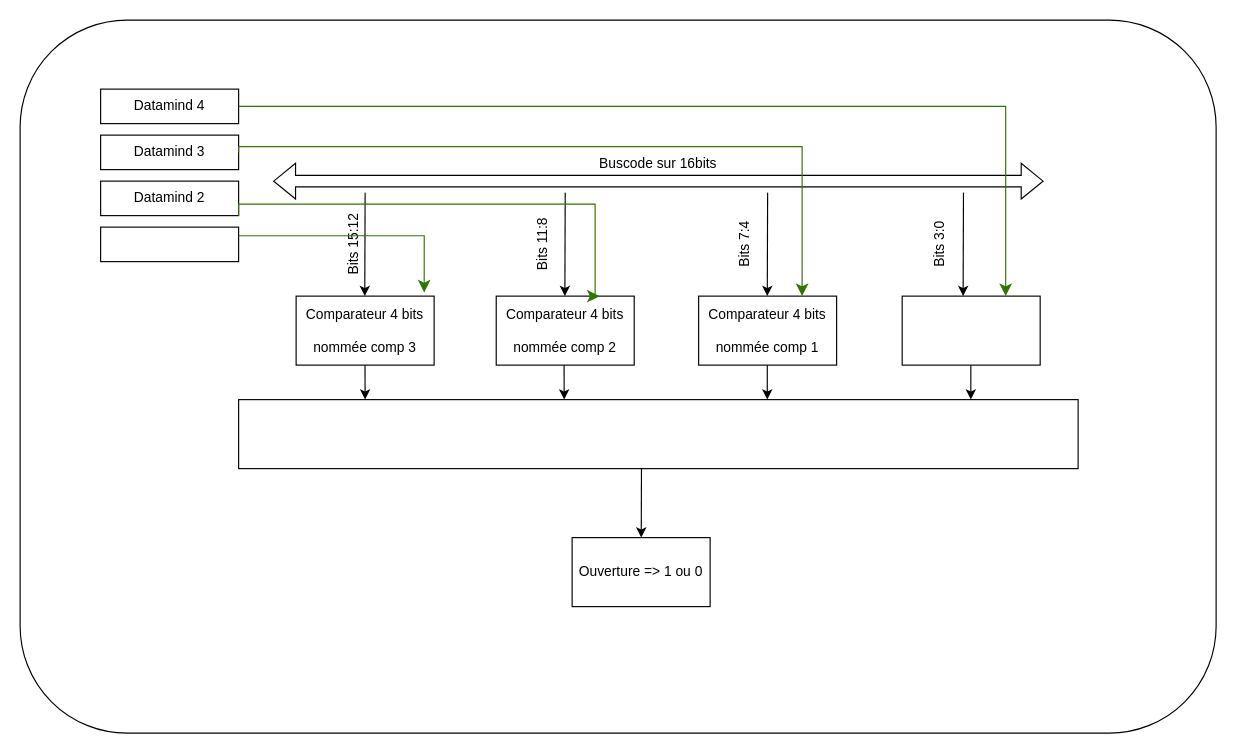
The diagram is 1236 pixels wide and 753 high, and some of its shapes have lost their labels. The shapes that lost their labels are listed below. From the top down, each one's centre as x and y in pixels, then its label:
At pixel 169 244: "Datamind 1".
At pixel 970 330: "Comparateur 4 bits nommée comp 0".
At pixel 657 433: "Porte ET".
